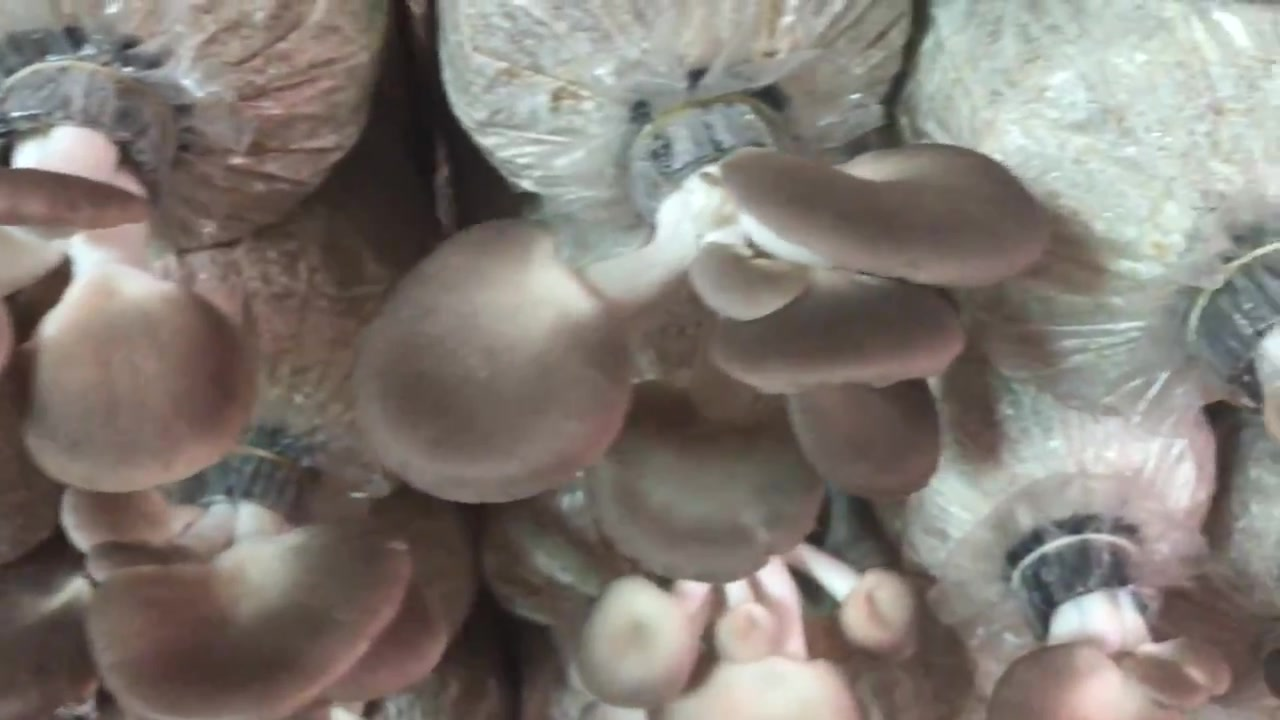nam: (357, 102, 1045, 580), (1, 448, 446, 720), (1, 63, 250, 489), (580, 541, 913, 720), (989, 538, 1232, 720)
